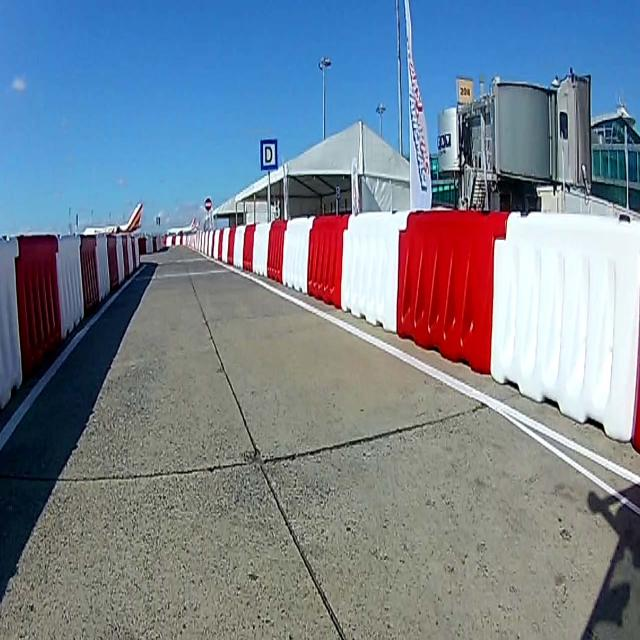durak: (260, 138, 278, 170)
girisyok: (204, 197, 212, 211)
